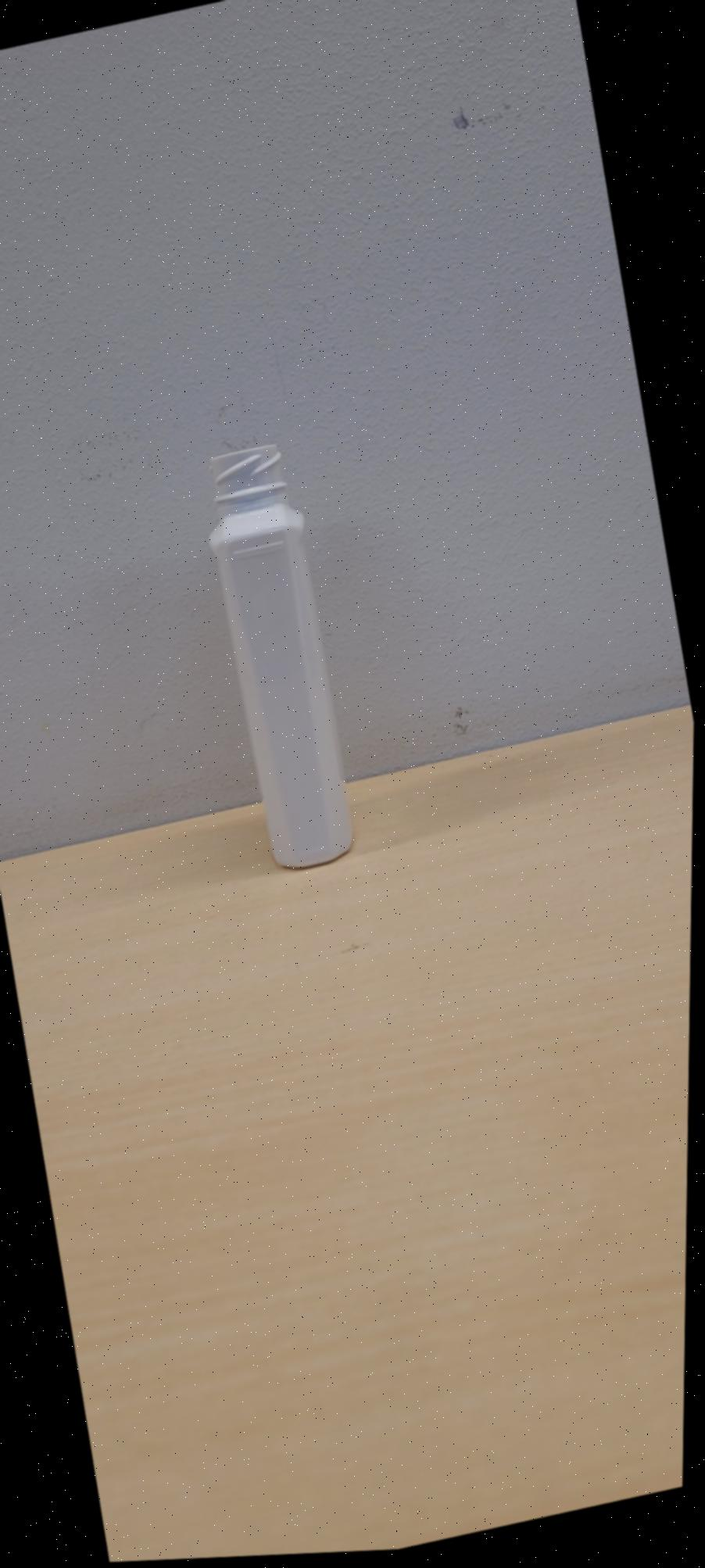bottle: (210, 444, 353, 868)
